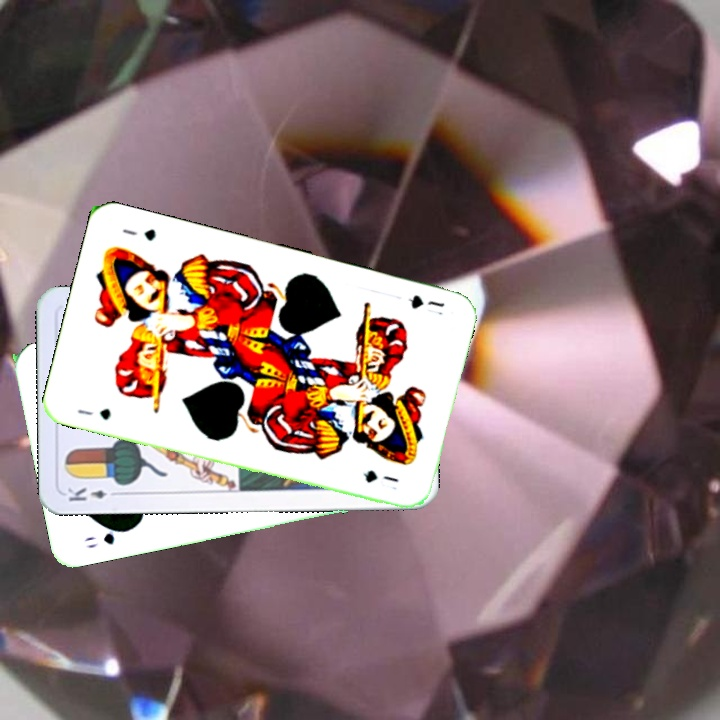EK: (63, 484, 122, 504)
GO: (80, 524, 133, 551)
GU: (405, 290, 447, 312), (73, 404, 114, 423)
